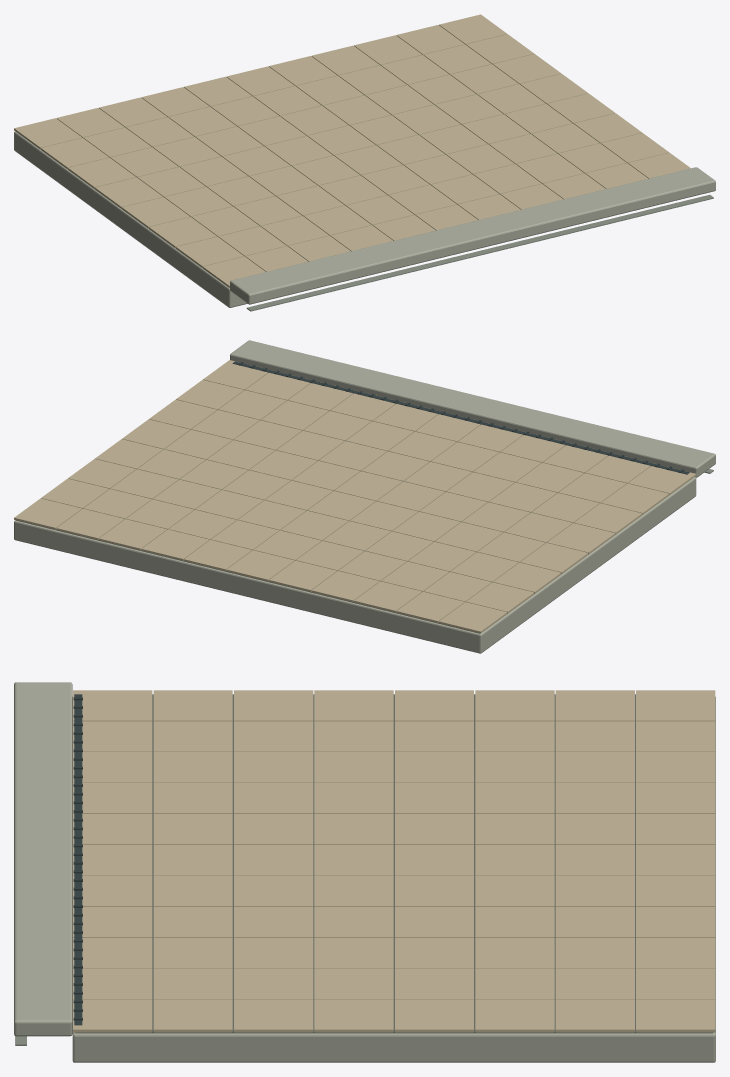
Rendered from source-edit.glb.
3 renders of one model, top to bottom at view 1: azimuth 30°, elevation 25°; view 2: azimuth 150°, elevation 25°; view 3: azimuth 270°, elevation 25°, orthographic. The views are drawn at different scales.
Parts seen in each view (by area): view 1: PORCH_Step, PORCH_Foundation, PORCH_StepNosing, TILE_00_01, TILE_00_05, TILE_00_06, TILE_00_03, TILE_00_07, TILE_00_02, TILE_00_04, TILE_01_06, TILE_03_05 (+79 smaller); view 2: PORCH_Foundation, PORCH_Step, DRAIN_Channel, TILE_00_07, TILE_05_07, TILE_10_07, TILE_01_07, TILE_02_07, TILE_03_07, TILE_04_07, TILE_07_07, TILE_08_07 (+79 smaller); view 3: PORCH_Step, PORCH_Foundation, PORCH_GroutBed, TILE_10_01, TILE_10_02, TILE_10_03, TILE_10_05, TILE_10_06, TILE_10_07, TILE_10_04, TILE_00_03, TILE_00_05 (+80 smaller).
Part boxes in pixels (bbox=[...]): PORCH_Step: bbox=[230, 167, 715, 304]; PORCH_Foundation: bbox=[14, 131, 247, 307]; PORCH_StepNosing: bbox=[246, 194, 713, 311]; TILE_00_01: bbox=[176, 236, 244, 268]; TILE_00_05: bbox=[68, 157, 136, 189]; TILE_00_06: bbox=[41, 138, 109, 169]; TILE_00_03: bbox=[122, 197, 190, 228]; TILE_00_07: bbox=[14, 118, 82, 149]; TILE_00_02: bbox=[149, 217, 216, 248]; TILE_00_04: bbox=[95, 177, 162, 208]; TILE_01_06: bbox=[83, 127, 151, 157]; TILE_03_05: bbox=[195, 126, 263, 156]; PORCH_Foundation: bbox=[14, 477, 696, 653]; PORCH_Step: bbox=[230, 340, 715, 477]; DRAIN_Channel: bbox=[232, 361, 689, 474]; TILE_00_07: bbox=[439, 602, 507, 633]; TILE_05_07: bbox=[226, 550, 294, 581]; TILE_10_07: bbox=[14, 498, 82, 529]; TILE_01_07: bbox=[396, 591, 464, 622]; TILE_02_07: bbox=[354, 581, 422, 612]; TILE_03_07: bbox=[311, 571, 379, 602]; TILE_04_07: bbox=[269, 560, 337, 591]; TILE_07_07: bbox=[141, 529, 209, 560]; TILE_08_07: bbox=[99, 519, 167, 550]; PORCH_Step: bbox=[14, 682, 72, 1036]; PORCH_Foundation: bbox=[72, 696, 715, 1062]; PORCH_GroutBed: bbox=[75, 694, 712, 1033]; TILE_10_01: bbox=[153, 999, 232, 1032]; TILE_10_02: bbox=[234, 999, 313, 1032]; TILE_10_03: bbox=[314, 999, 393, 1032]; TILE_10_05: bbox=[475, 999, 554, 1032]; TILE_10_06: bbox=[555, 999, 634, 1032]; TILE_10_07: bbox=[636, 999, 715, 1032]; TILE_10_04: bbox=[395, 999, 473, 1032]; TILE_00_03: bbox=[314, 690, 393, 721]; TILE_00_05: bbox=[475, 690, 554, 721].
Bounding box in the file's own units: 5.5 × 0.32 × 4.8.
